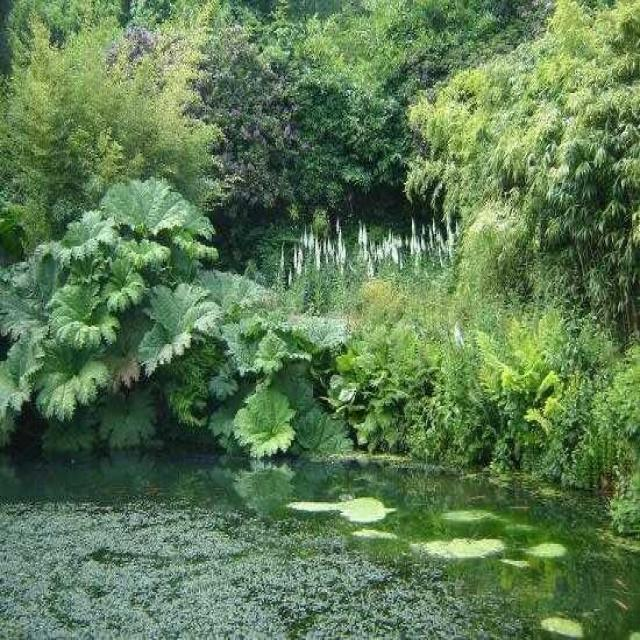Ponds: (1, 398, 640, 640)
